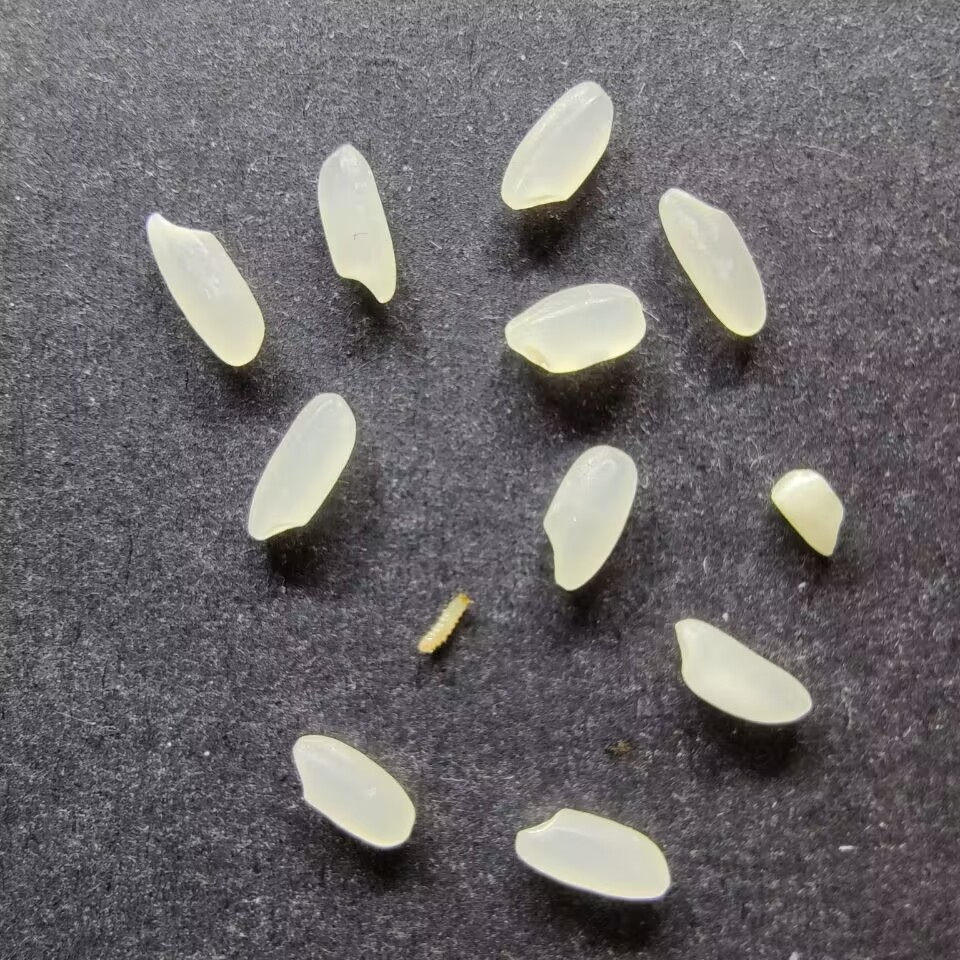broken: (770, 468, 844, 557)
others: (415, 590, 472, 656)
rice: (145, 212, 265, 367), (657, 188, 767, 336), (246, 392, 356, 540), (673, 618, 813, 724), (499, 81, 614, 210), (513, 807, 669, 901), (291, 734, 415, 849), (541, 445, 638, 591), (504, 282, 647, 373), (316, 143, 396, 304)
